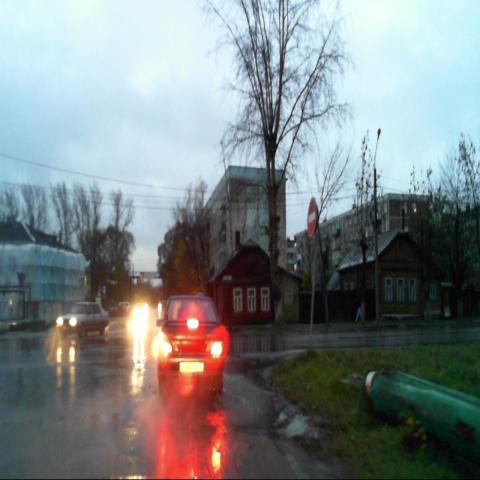3_1: (307, 197, 317, 236)
